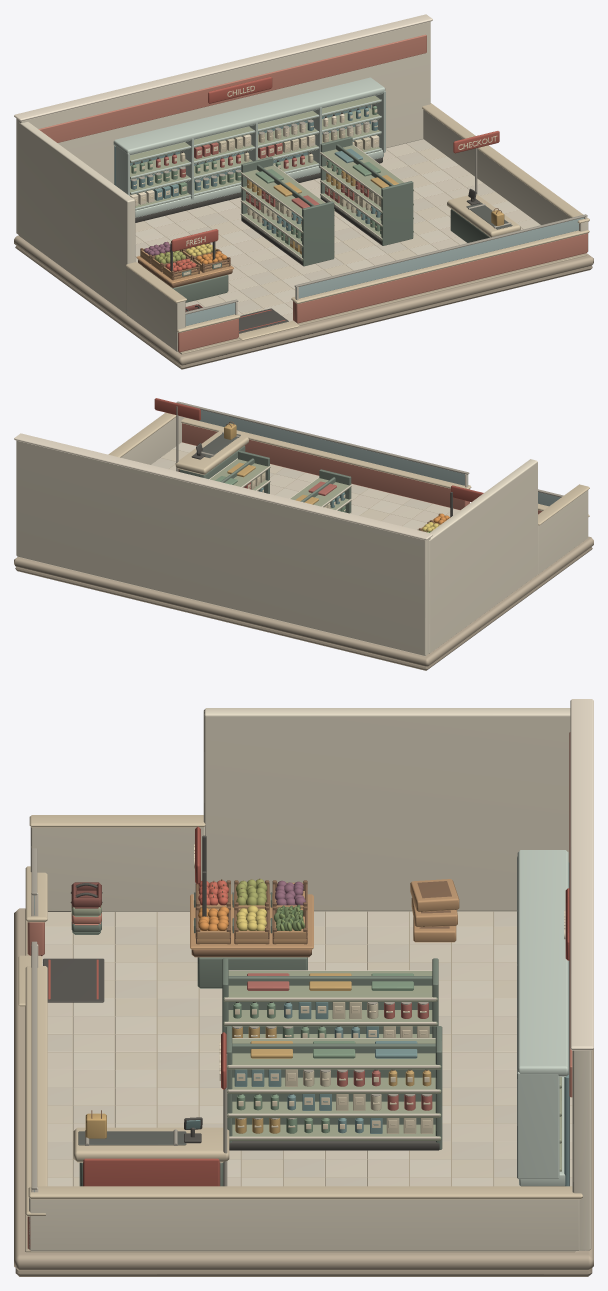
File: supermarket.glb
The picture shows the model from 3 angles, top to bottom: view 1: azimuth 30°, elevation 25°; view 2: azimuth 150°, elevation 25°; view 3: azimuth 270°, elevation 25°; orthographic projection. The views are drawn at different scales.
Parts seen in each view (by area): view 1: Market walls and tile floor · Market · painted cream walls, Market walls and tile floor · Market · soft rose wall band, Cold case and drinks · Market · refrigeration trim, Market walls and tile floor · Market · pale limestone plinth, Grocery aisles · Market · desaturated sage shelves, Cold case and drinks · Market · pale sage shelves, Market walls and tile floor · Market · warm honed stone, Market walls and tile floor · Market porcelain · shade 1, Grocery aisles · Market · pale sage shelves, Market walls and tile floor · Market porcelain · shade 4, Market walls and tile floor · Market · cool tinted window gl, Market walls and tile floor · Market porcelain · shade 3 (+31 smaller); view 2: Market walls and tile floor · Market · painted cream walls, Market walls and tile floor · Market · pale limestone plinth, Market walls and tile floor · Market · soft rose wall band, Market walls and tile floor · Market · cream panel, Market walls and tile floor · Market · cool tinted window gl, Market walls and tile floor · Market · warm honed stone, Market walls and tile floor · Market · base shadow line, Grocery aisles · Market · pale sage shelves, Market walls and tile floor · Market porcelain · shade 2, Grocery aisles · Market · desaturated sage shelves, Checkout and baskets · Market · warm honed stone, Market walls and tile floor · Market porcelain · shade 5 (+7 smaller); view 3: Market walls and tile floor · Market · painted cream walls, Cold case and drinks · Market · refrigeration trim, Market walls and tile floor · Market · warm honed stone, Market walls and tile floor · Market · pale limestone plinth, Market walls and tile floor · Market porcelain · shade 5, Market walls and tile floor · Market porcelain · shade 3, Grocery aisles · Market · pale sage shelves, Market walls and tile floor · Market porcelain · shade 1, Market walls and tile floor · Market porcelain · shade 4, Market walls and tile floor · Market porcelain · shade 2, Grocery aisles · Market · desaturated sage shelves, Market walls and tile floor · Market · cream panel (+23 smaller).
Boxes of the visible parts, x1,y1,x2,y2 form: Market walls and tile floor · Market · painted cream walls: (16,21,588,352); Market walls and tile floor · Market · soft rose wall band: (38,34,587,352); Cold case and drinks · Market · refrigeration trim: (113,77,385,217); Market walls and tile floor · Market · pale limestone plinth: (14,235,593,366); Grocery aisles · Market · desaturated sage shelves: (241,136,413,266); Cold case and drinks · Market · pale sage shelves: (130,95,380,210); Market walls and tile floor · Market · warm honed stone: (126,103,589,340); Market walls and tile floor · Market porcelain · shade 1: (135,147,507,314); Grocery aisles · Market · pale sage shelves: (241,145,413,260); Market walls and tile floor · Market porcelain · shade 4: (135,156,519,315); Market walls and tile floor · Market · cool tinted window gl: (185,217,584,325); Market walls and tile floor · Market porcelain · shade 3: (135,139,495,312); Market walls and tile floor · Market · painted cream walls: (16,416,588,655); Market walls and tile floor · Market · pale limestone plinth: (14,536,593,667); Market walls and tile floor · Market · soft rose wall band: (182,423,542,513); Market walls and tile floor · Market · cream panel: (14,433,468,540); Market walls and tile floor · Market · cool tinted window gl: (185,410,560,506); Market walls and tile floor · Market · warm honed stone: (108,412,589,525); Market walls and tile floor · Market · base shadow line: (15,547,592,670); Grocery aisles · Market · pale sage shelves: (210,459,351,513); Market walls and tile floor · Market porcelain · shade 2: (270,479,459,526); Grocery aisles · Market · desaturated sage shelves: (220,450,351,513); Checkout and baskets · Market · warm honed stone: (175,430,248,474); Market walls and tile floor · Market porcelain · shade 5: (169,464,453,518); Market walls and tile floor · Market · painted cream walls: (29,708,591,1251); Cold case and drinks · Market · refrigeration trim: (517,850,568,1186); Market walls and tile floor · Market · warm honed stone: (18,815,582,1216); Market walls and tile floor · Market · pale limestone plinth: (14,908,593,1270); Market walls and tile floor · Market porcelain · shade 5: (42,911,572,1186); Market walls and tile floor · Market porcelain · shade 3: (47,911,572,1186); Grocery aisles · Market · pale sage shelves: (223,971,441,1140); Market walls and tile floor · Market porcelain · shade 1: (45,911,519,1186); Market walls and tile floor · Market porcelain · shade 4: (45,911,572,1186); Market walls and tile floor · Market porcelain · shade 2: (41,911,572,1186); Grocery aisles · Market · desaturated sage shelves: (222,958,442,1149); Market walls and tile floor · Market · cream panel: (31,699,593,1192).
Size of the model in its own units: 10.01 by 3.09 by 7.
